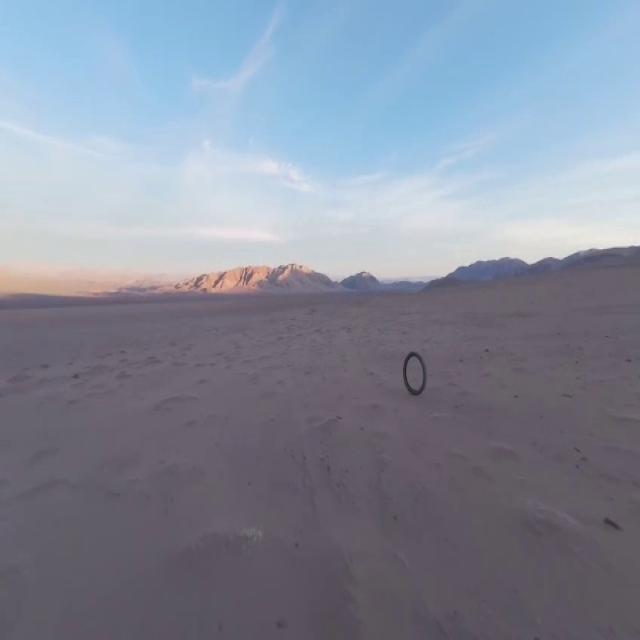Tire: (403, 352, 426, 394)
